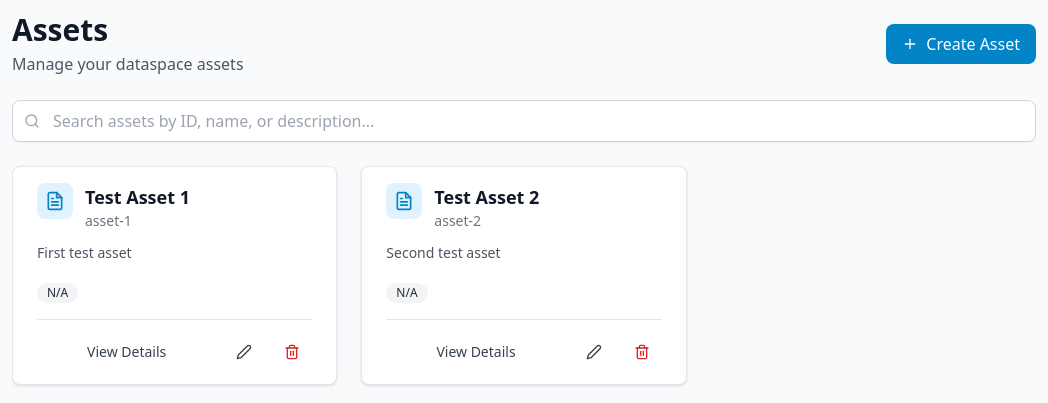
Assets Page Integration Tests › Search Functionality › should show "no matches" message when search returns no results
Expected: the heading "Test Asset 1" is shown, x1=85 y1=185 x2=190 y2=209
Type "NonexistentAsset" into the field with placeholder "Search assets by ID, name, or description..." at (524, 121), box x1=12 y1=100 x2=1036 y2=142
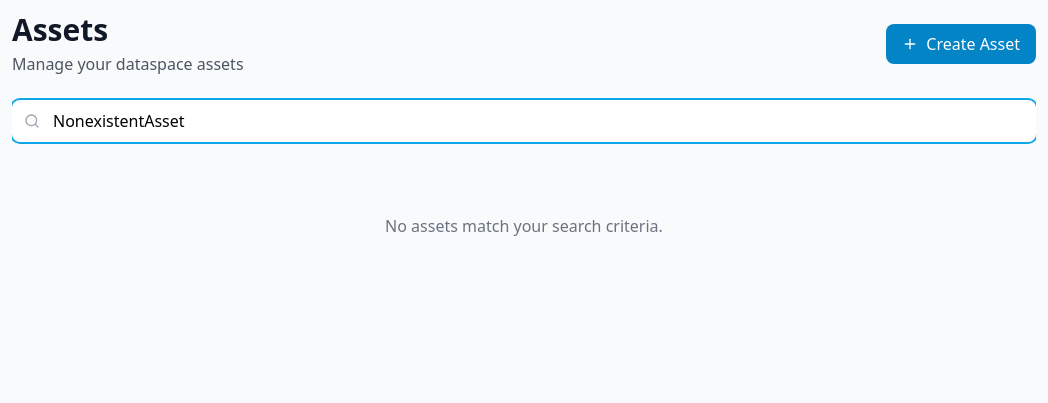
Expected: the text "No assets match your search criteria." is shown, x1=385 y1=215 x2=663 y2=237
